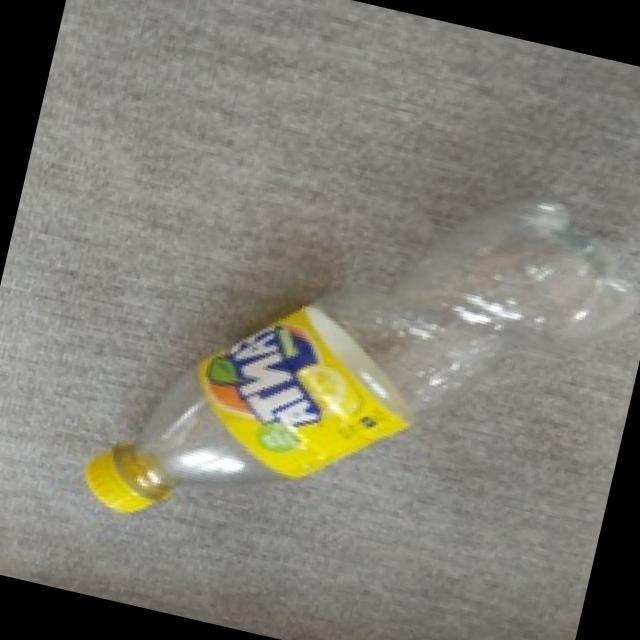good: (54, 85, 640, 632)
